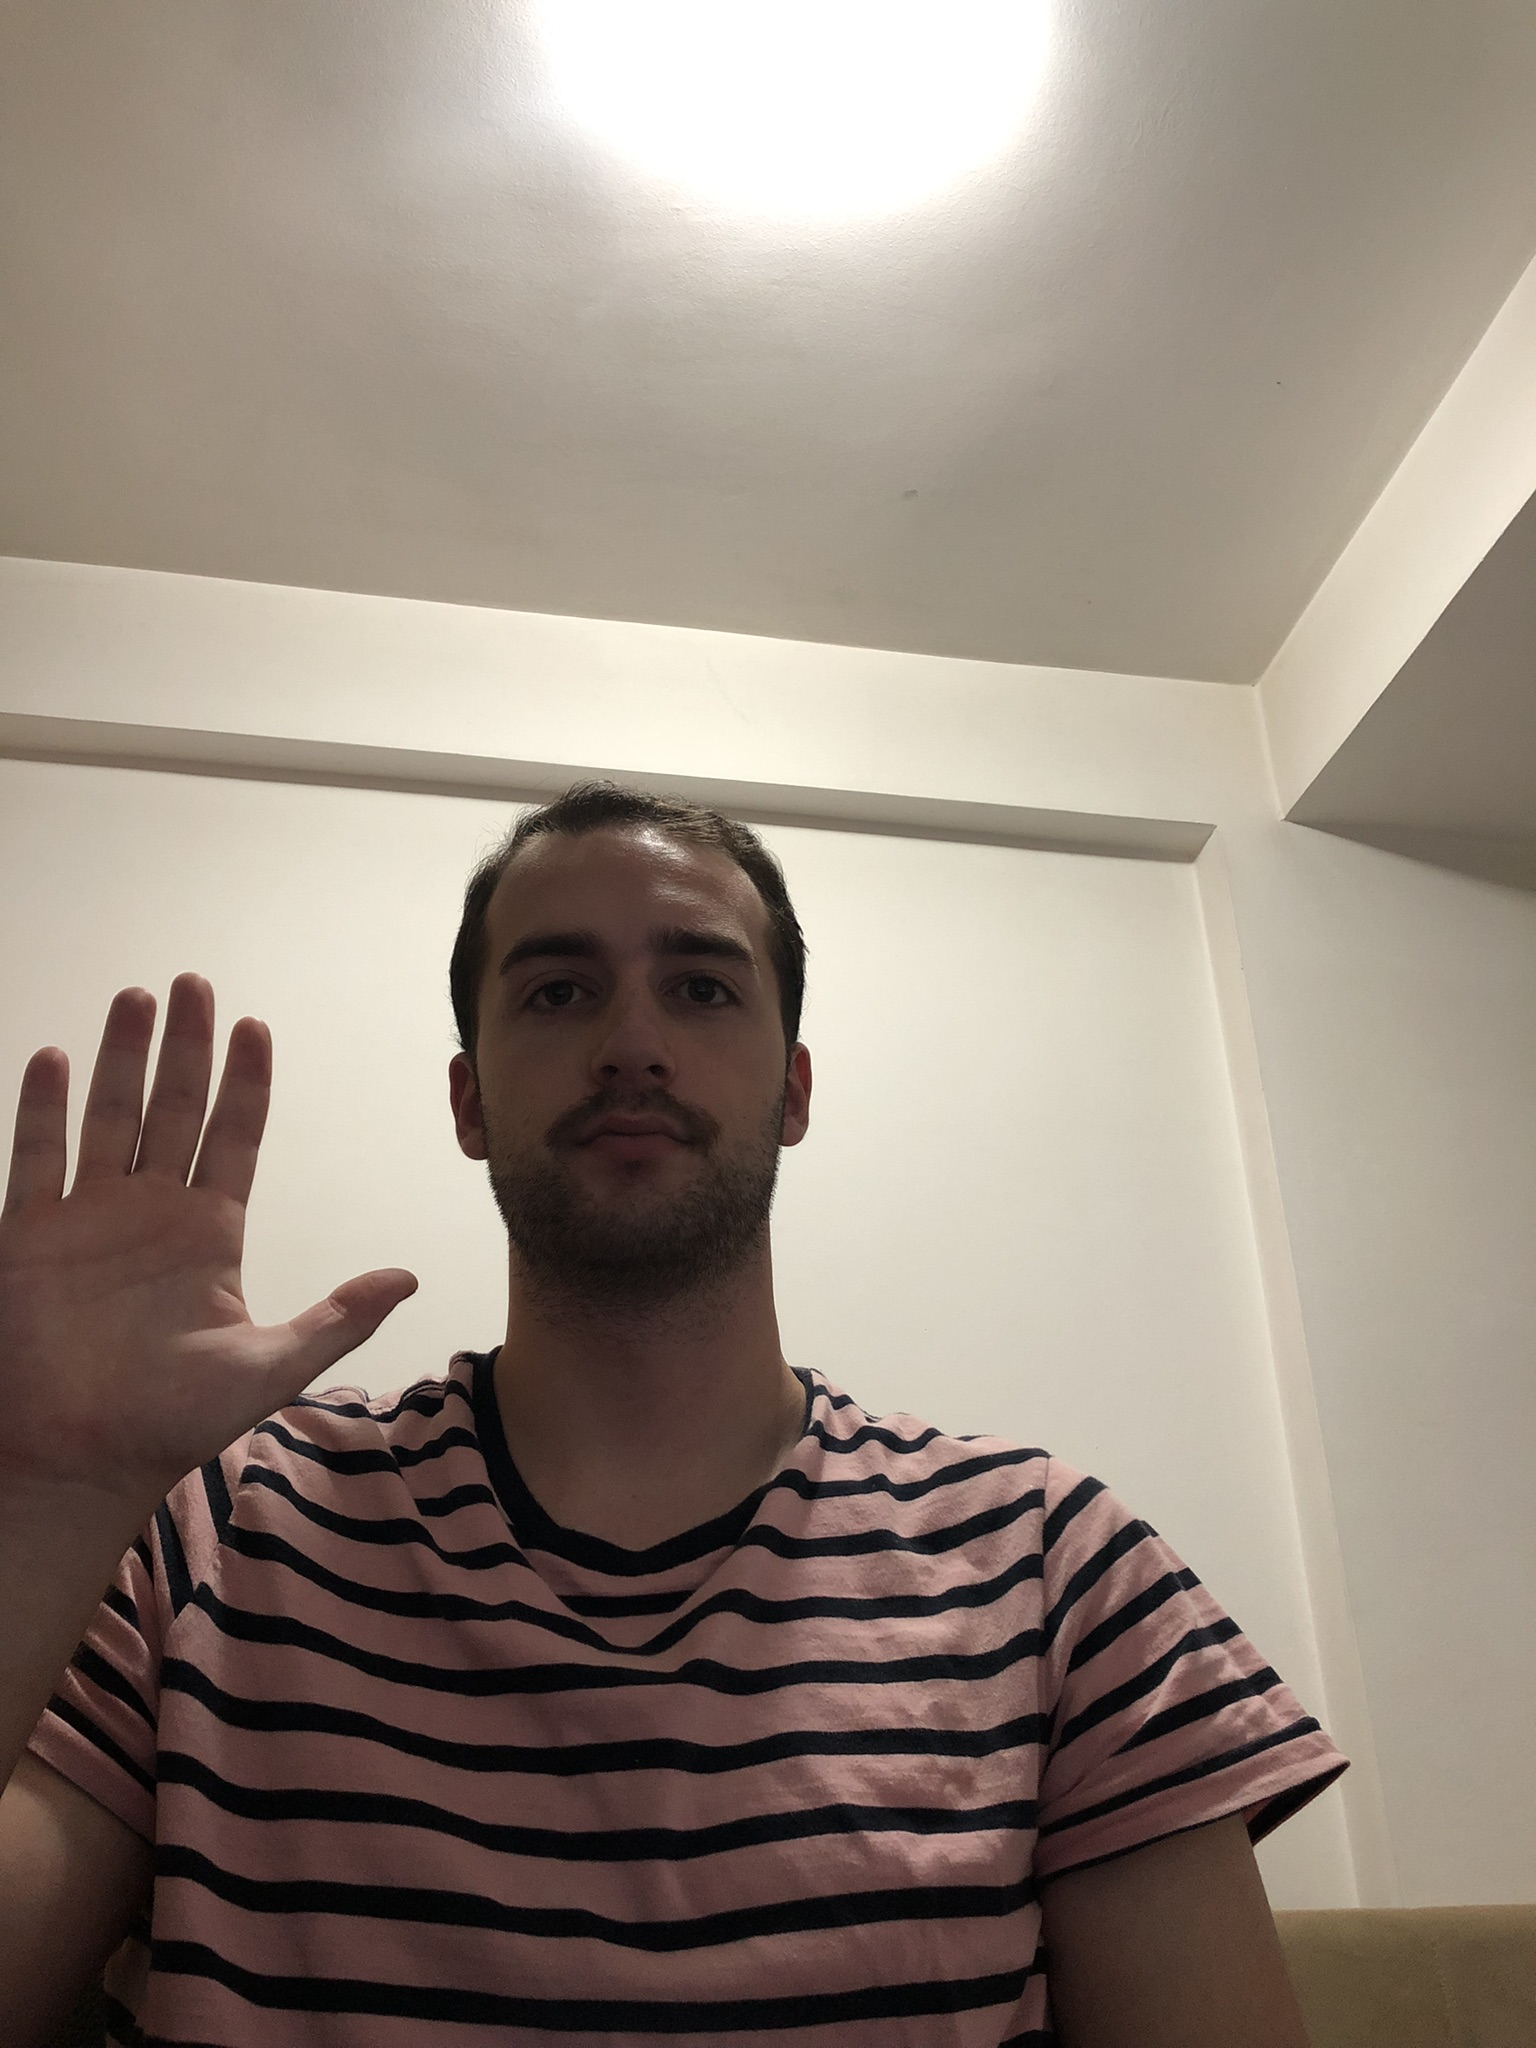Hello: (2, 963, 423, 1514)
